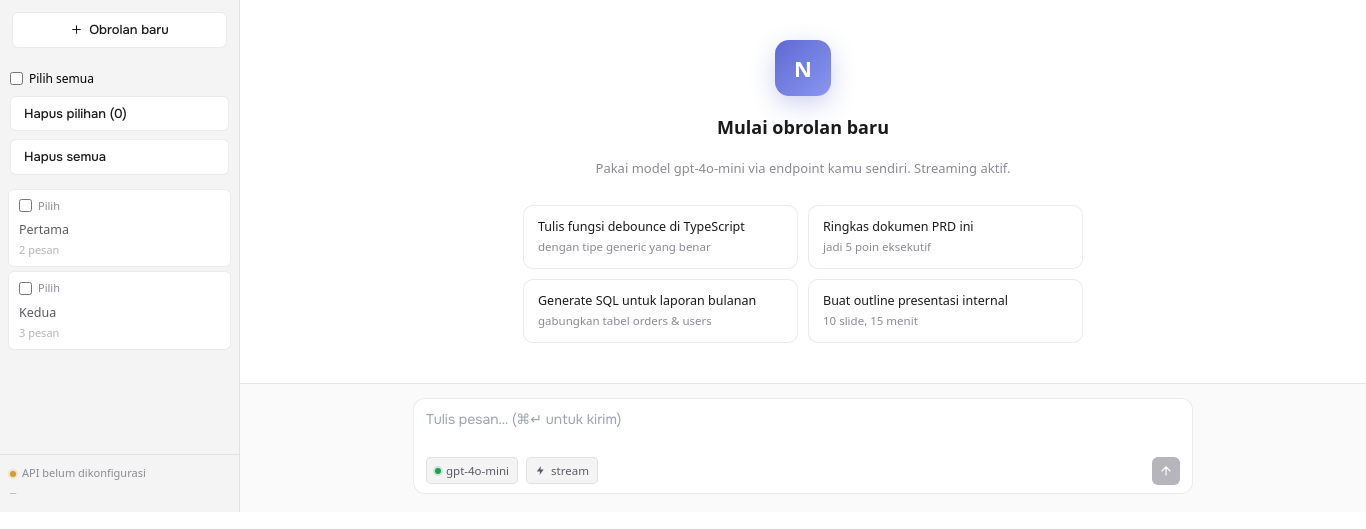
it: deletes only checked conversations
Click the checkbox named "Pilih obrolan Pertama".
click(26, 206)  # box [19,199,32,212]
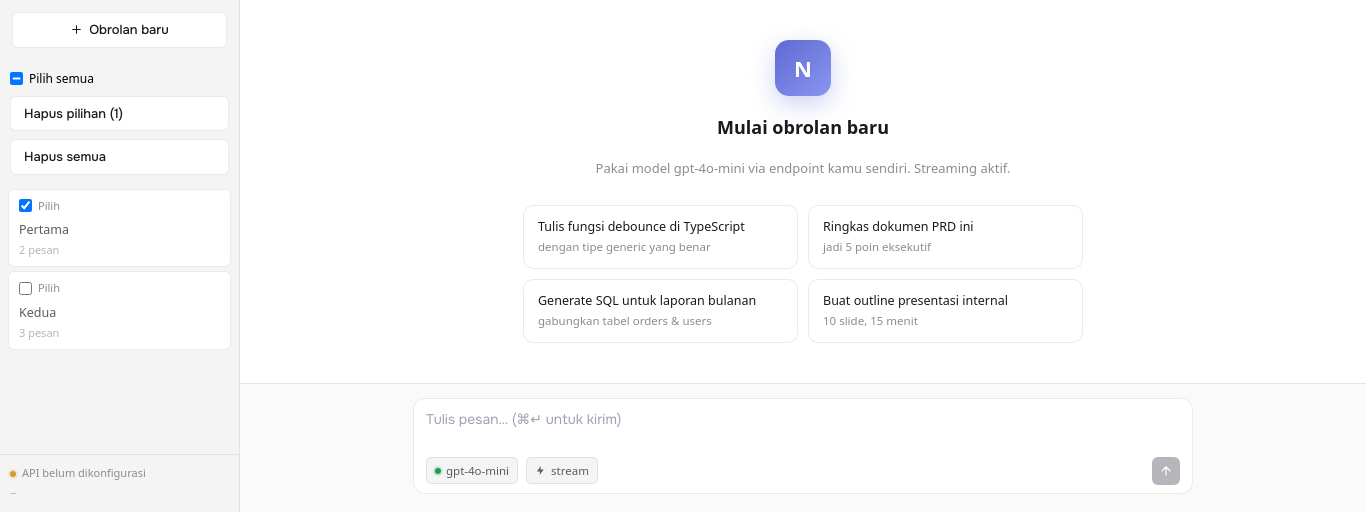
Click the button "Hapus pilihan (1)".
click(120, 113)  # box [10,96,229,131]
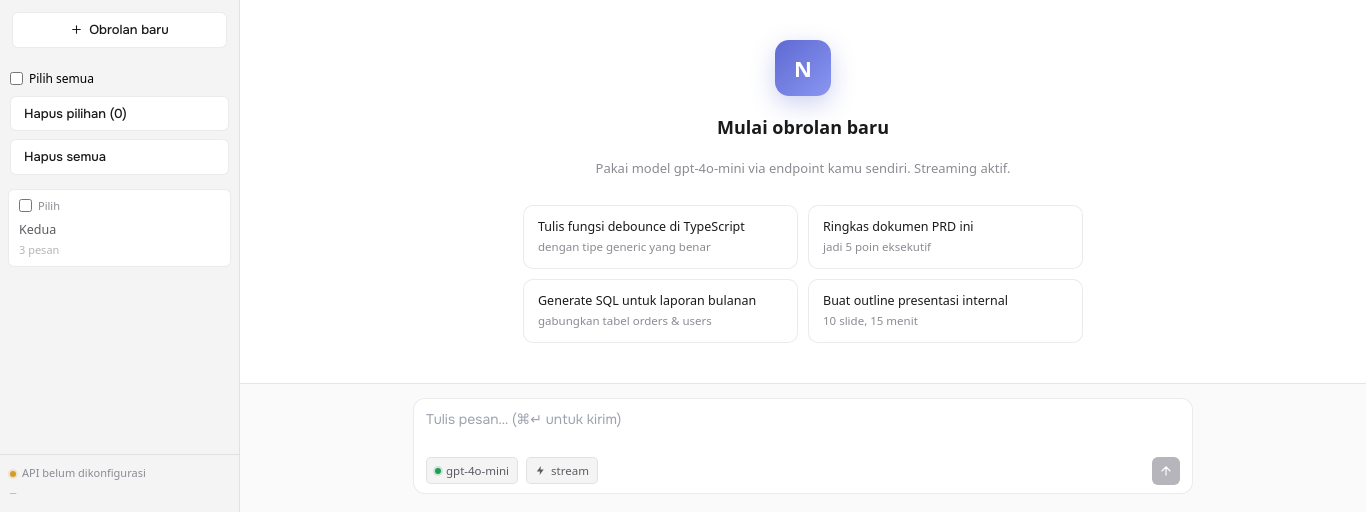
Result: the button "Pertama" is gone
Result: the text "Kedua" is shown at [19,221,56,238]
